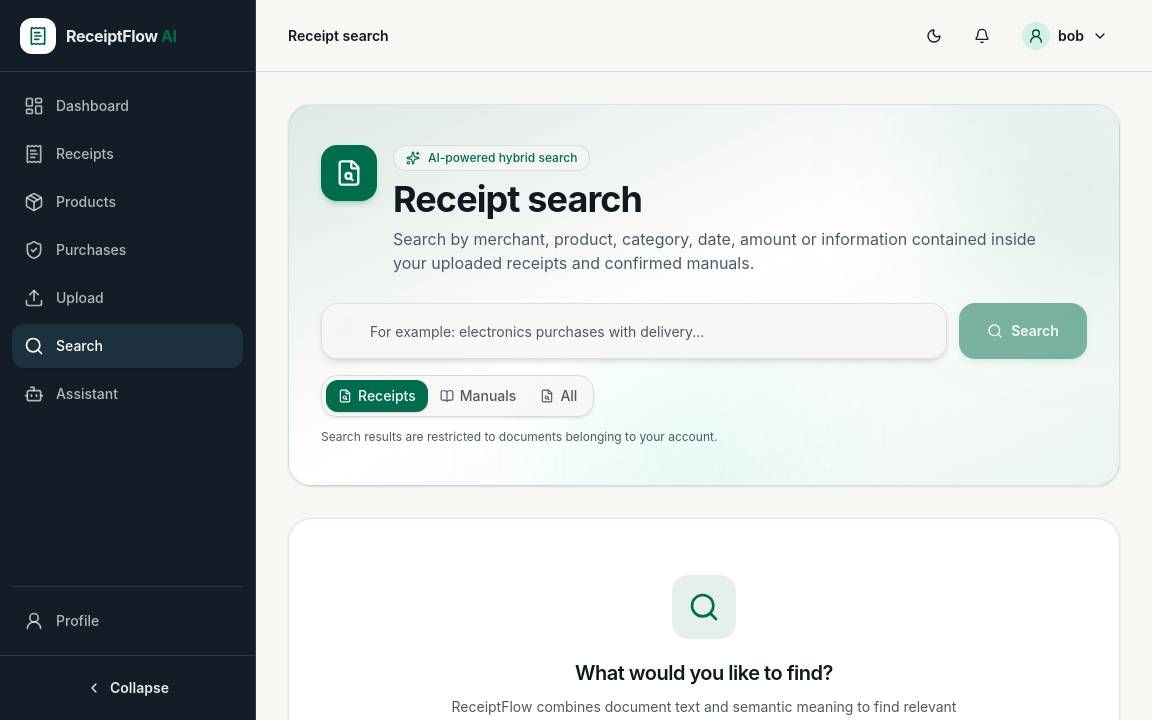
Test: Receipt search page › renders an empty result
Expected: the heading "Receipt search" is shown, x1=393 y1=177 x2=642 y2=221
Type "USB cables" into the search field named "Search receipts". click: (634, 331)
box: x1=321 y1=303 x2=947 y2=359
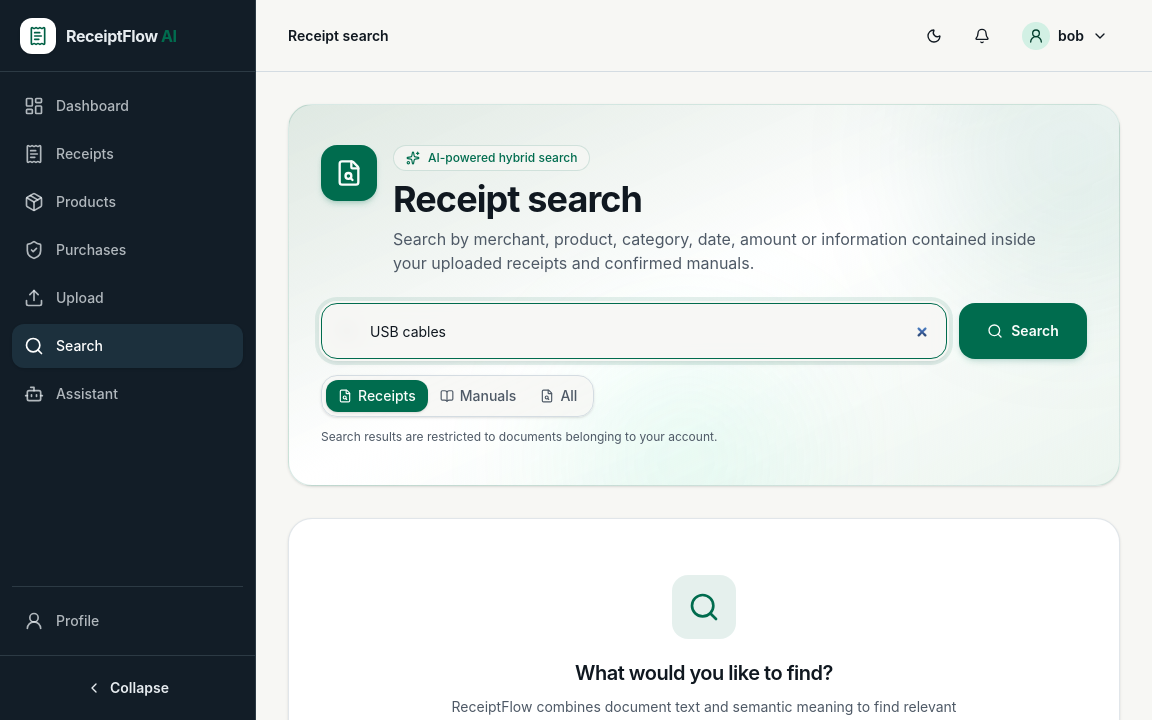
Click the button "Search". click: click(1023, 331)
box: x1=959 y1=303 x2=1087 y2=359
(page scrolled)
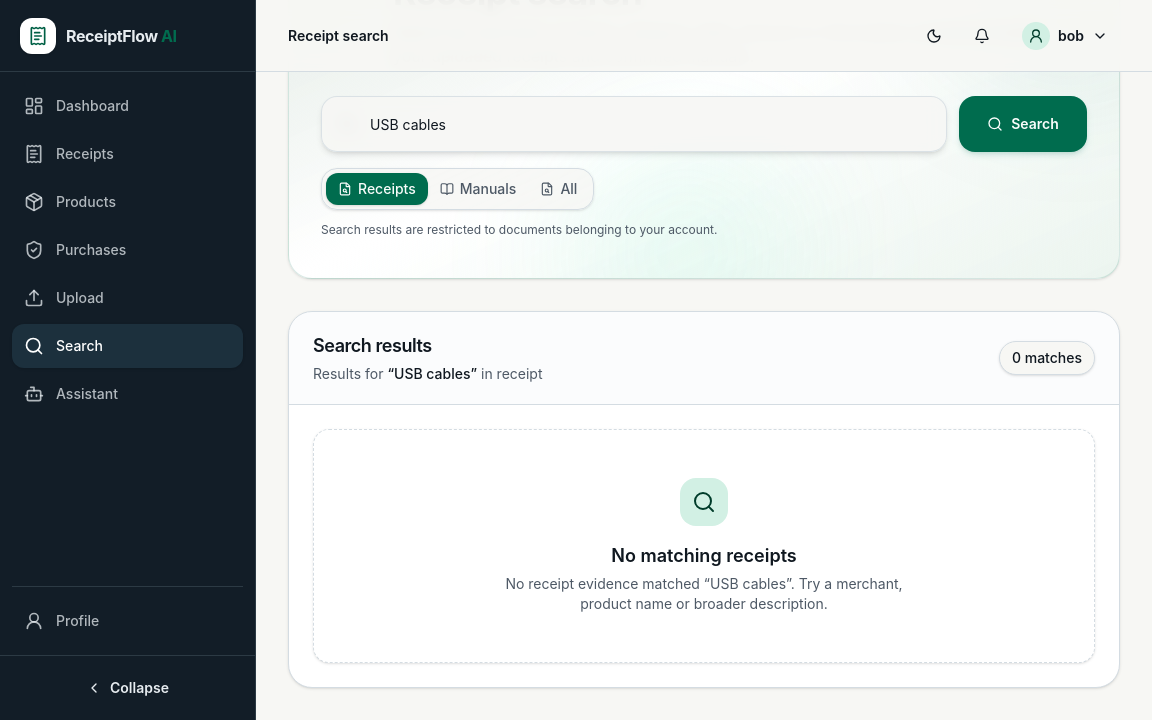
Now the heading "No matching receipts" is shown, box x1=611 y1=545 x2=797 y2=566
